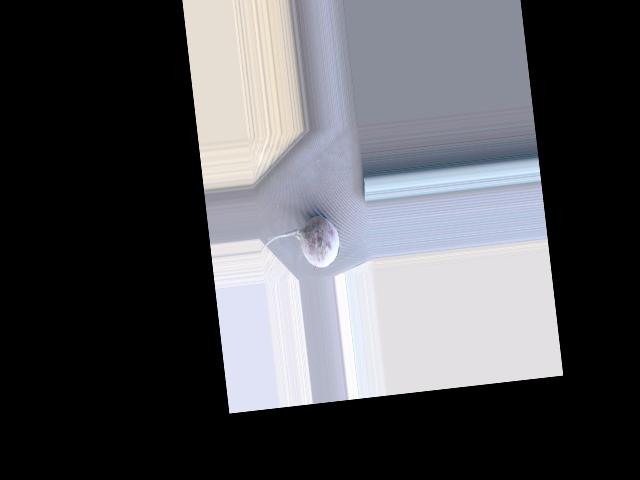beet: (257, 214, 341, 273)
